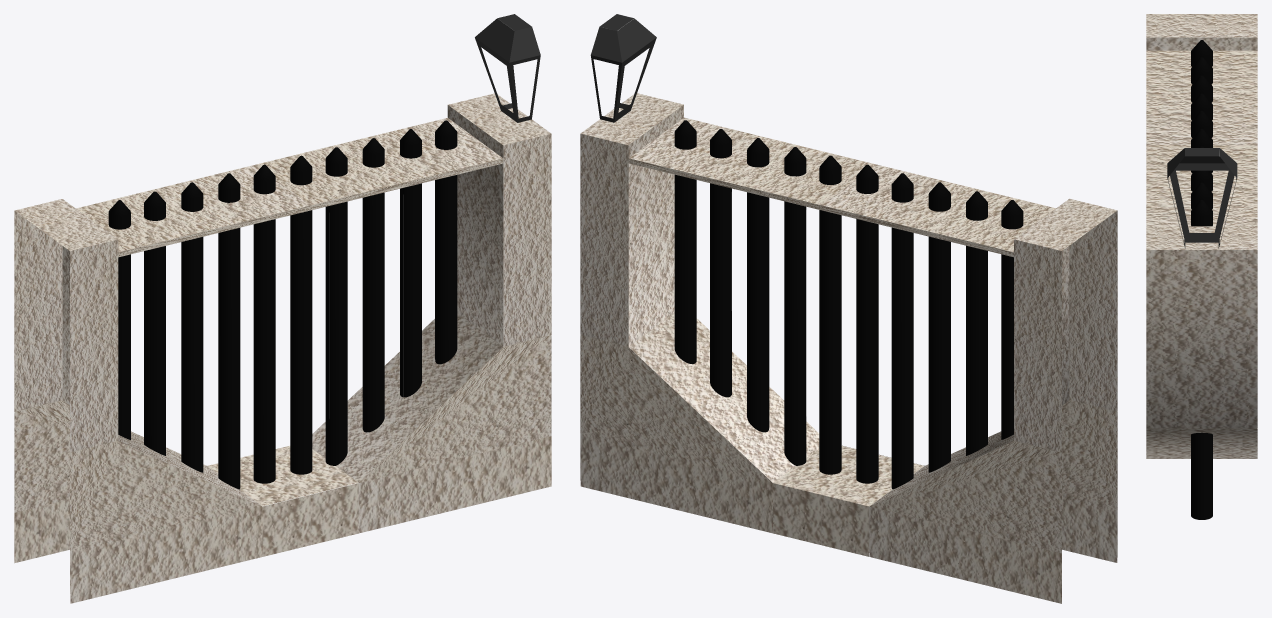
The model's file is fencepostendbeta.fbx.
The picture shows the model from 3 angles, left to right: view 1: azimuth 30°, elevation 25°; view 2: azimuth 150°, elevation 25°; view 3: azimuth 270°, elevation 25°; orthographic projection.
Visible parts, largest first — view 1: pCube9; view 2: pCube9; view 3: pCube9.
Boxes of the visible parts, x1,y1,x2,y2 form: pCube9: [14, 14, 551, 603]; pCube9: [580, 14, 1117, 603]; pCube9: [1146, 14, 1257, 519].
Size of the model in its own units: 5 by 4.42 by 1.
